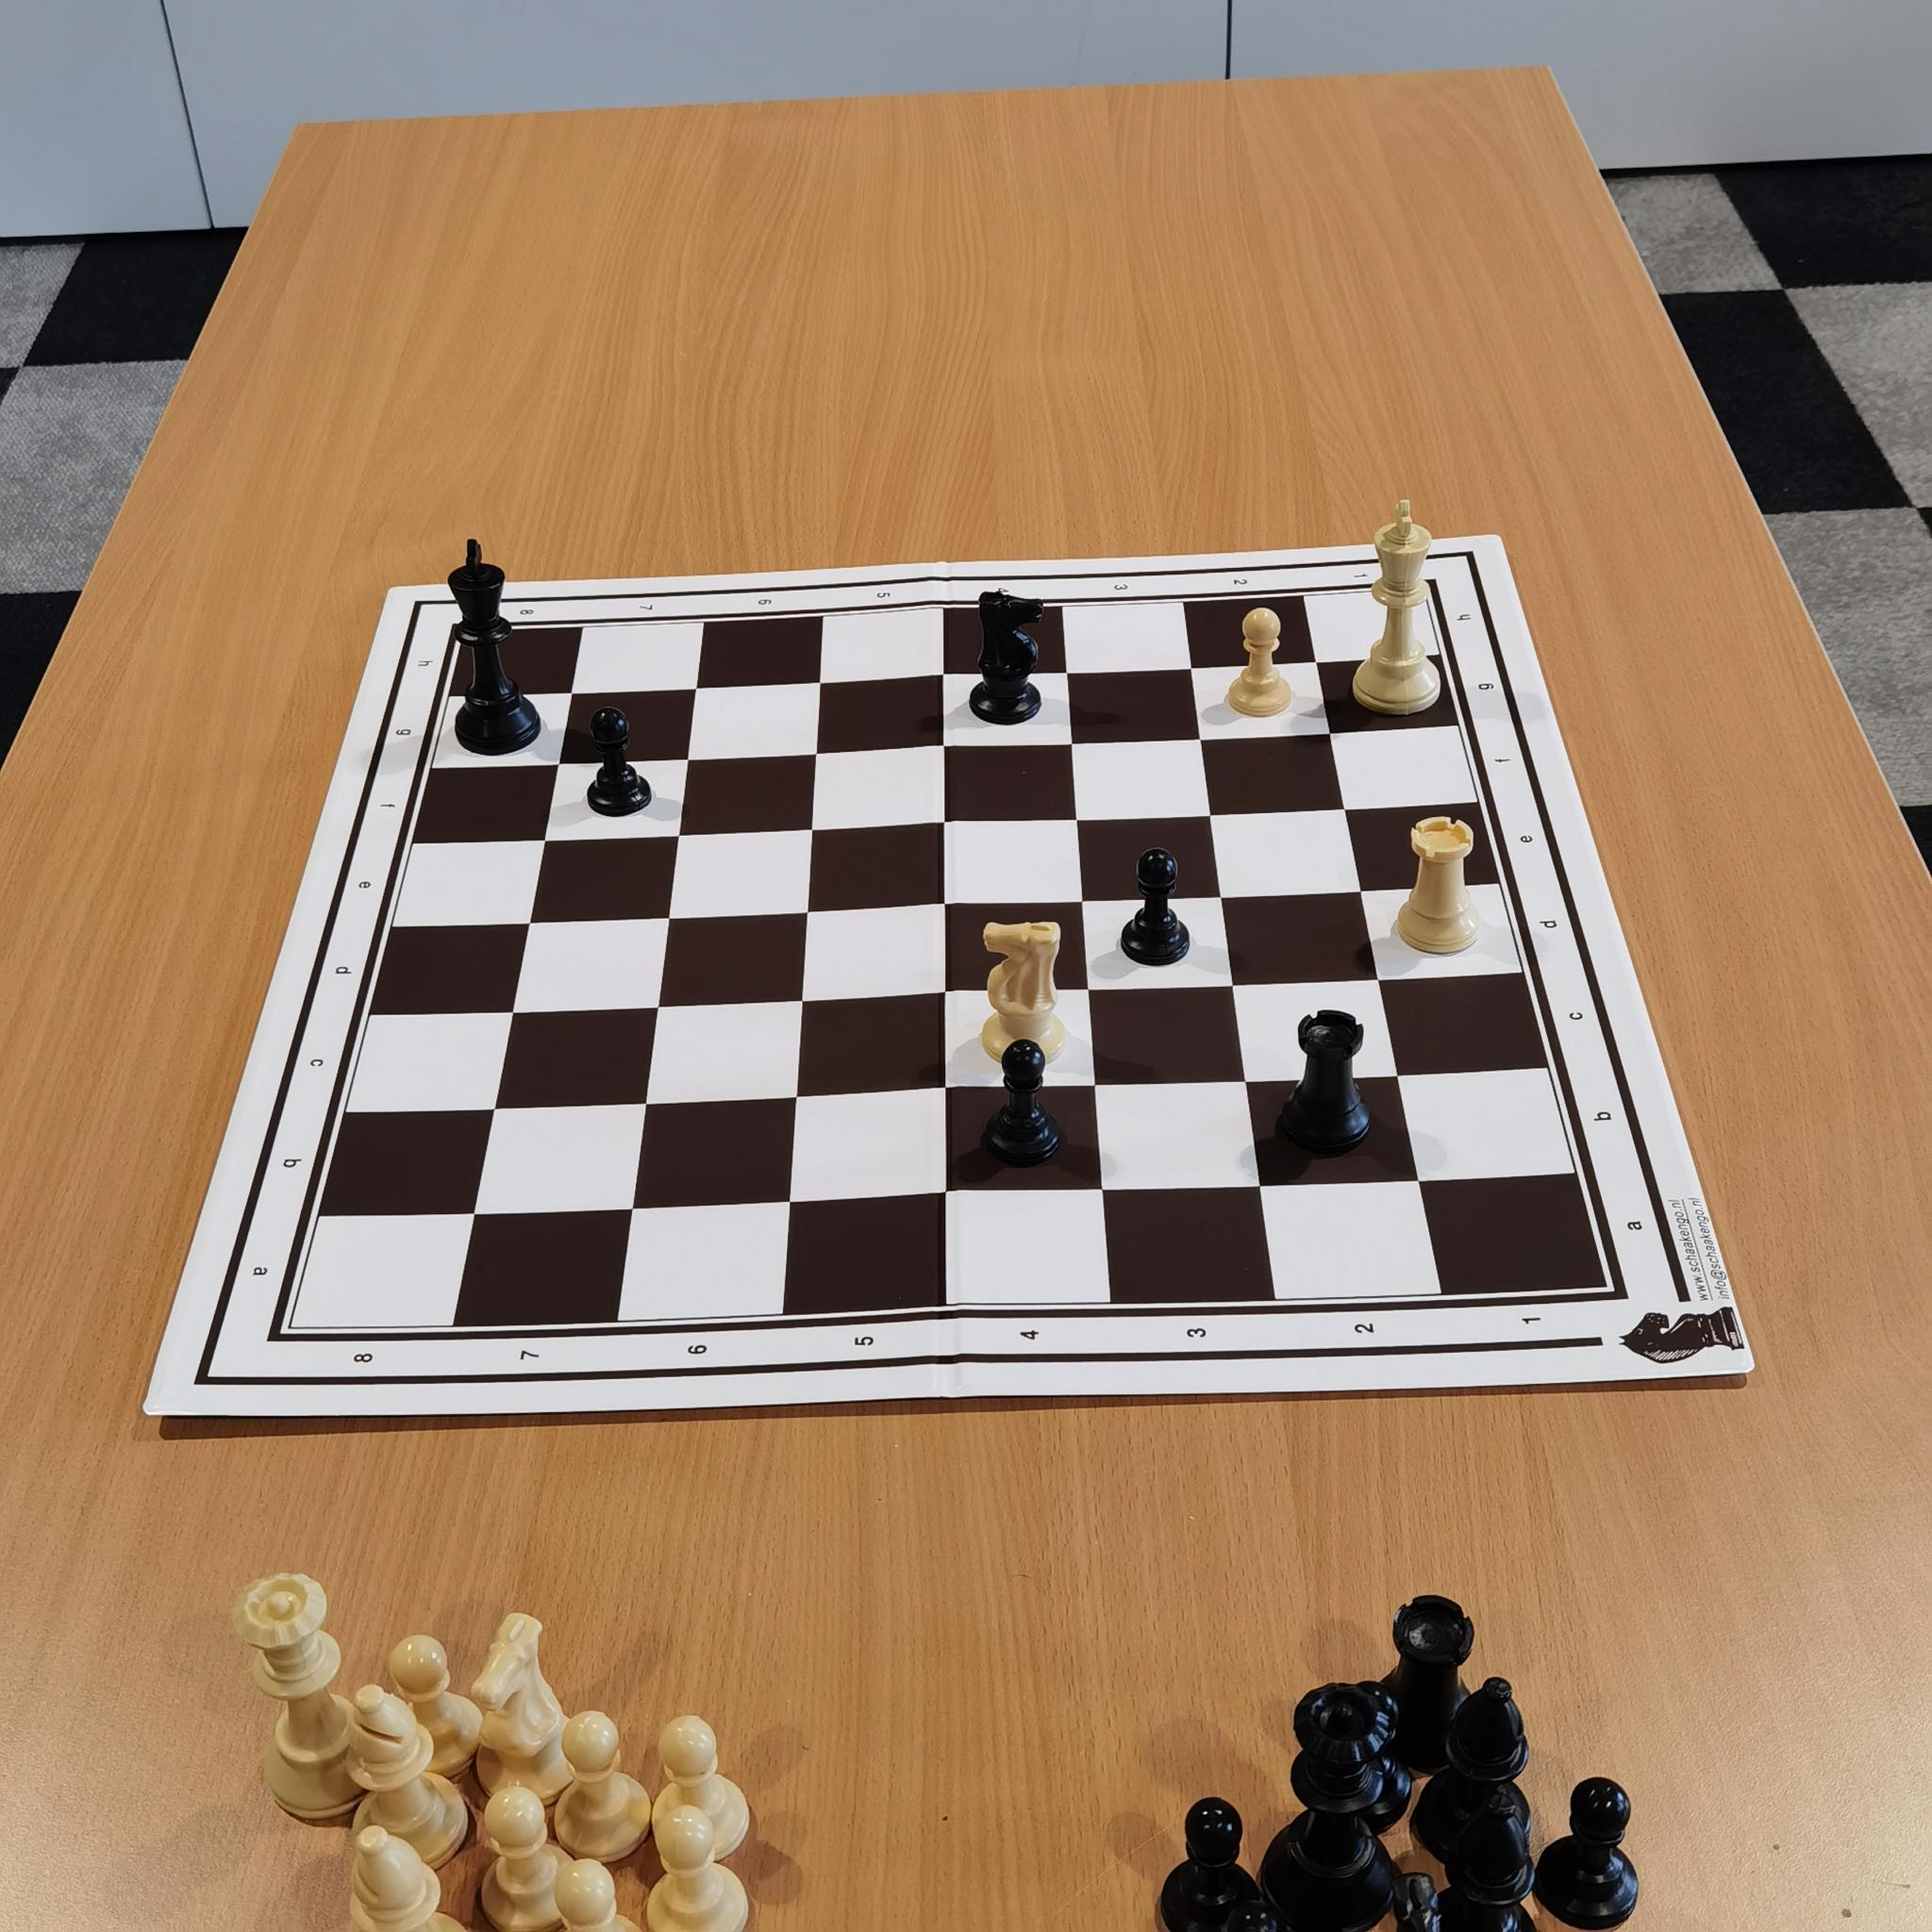corners: (262, 1292, 324, 1359), (1582, 1258, 1629, 1309), (448, 619, 485, 658), (1405, 575, 1442, 607)
eight: (336, 1330, 389, 1387), (510, 598, 545, 628)
one: (1507, 1299, 1555, 1348), (1352, 563, 1384, 586)
